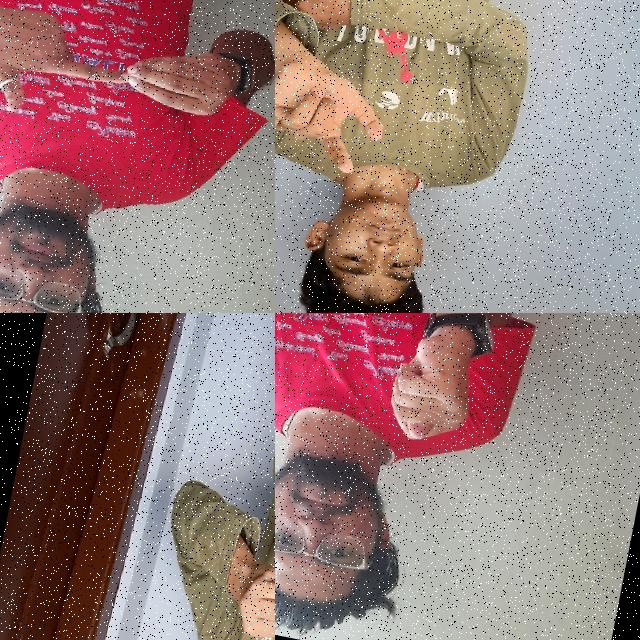Corna: (275, 38, 407, 181)
Dulya: (377, 313, 505, 457)
Five Fathers: (0, 0, 258, 166), (223, 531, 275, 640)
